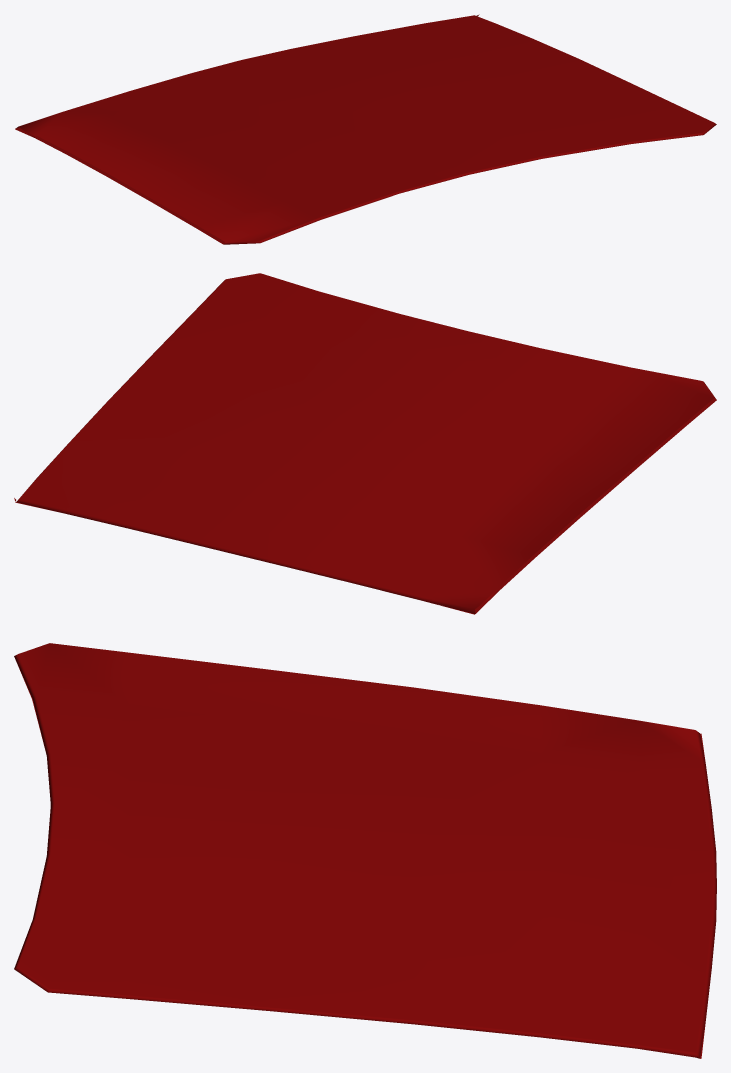
Rendered from cofre.obj.
The picture shows the model from 3 angles, top to bottom: view 1: azimuth 30°, elevation 25°; view 2: azimuth 150°, elevation 25°; view 3: azimuth 270°, elevation 25°; orthographic projection. The views are drawn at different scales.
Parts seen in each view (by area): view 1: cofre; view 2: cofre; view 3: cofre.
Part boxes in pixels (x1,y1,x2,y2): cofre: [15, 14, 716, 244]; cofre: [14, 273, 716, 614]; cofre: [14, 643, 716, 1058].
Bounding box in the file's own units: 4.82 × 0.601 × 4.11.
